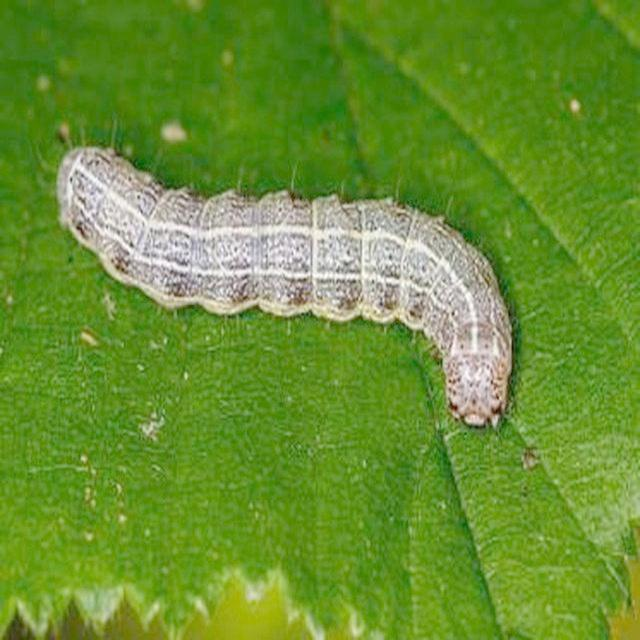Plaga: (59, 143, 516, 430)
